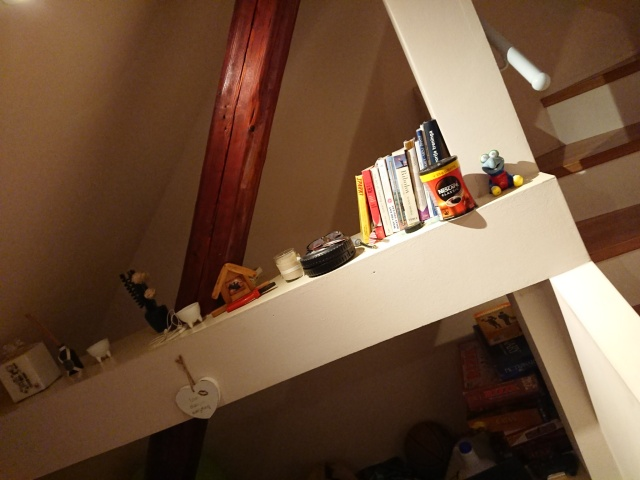Nescafe Classic 225g: (416, 152, 482, 224)
